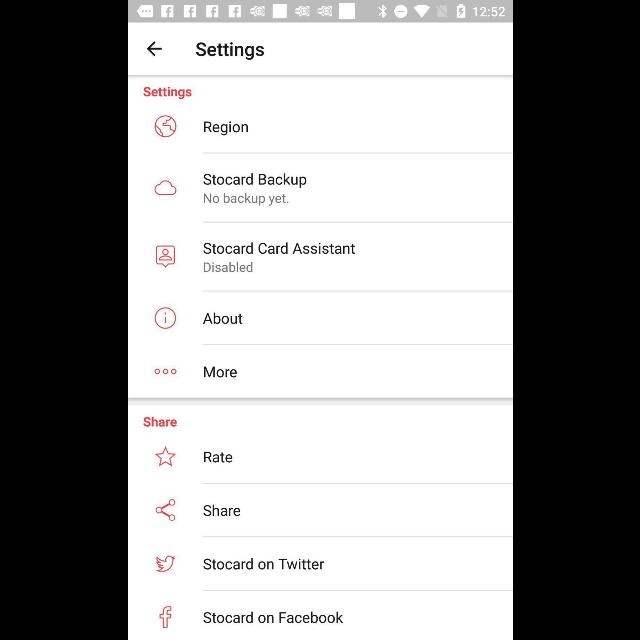icon: (154, 307, 176, 329), (155, 499, 175, 521), (154, 446, 176, 466), (156, 245, 174, 267), (154, 180, 176, 196), (155, 556, 175, 572), (159, 606, 171, 628), (146, 42, 160, 56)
image: (154, 115, 176, 137)
pageindicator: (154, 368, 176, 374)
text: (202, 242, 354, 254), (202, 612, 342, 624), (202, 558, 324, 570), (202, 174, 306, 188), (195, 42, 263, 60), (204, 193, 288, 205), (143, 86, 191, 100), (203, 122, 247, 136), (202, 313, 242, 325), (204, 262, 252, 272), (202, 505, 240, 517), (204, 367, 236, 378), (142, 417, 176, 427), (203, 452, 231, 462)
toolbar: (128, 23, 512, 75)
uppertaskbar: (128, 1, 512, 23)
